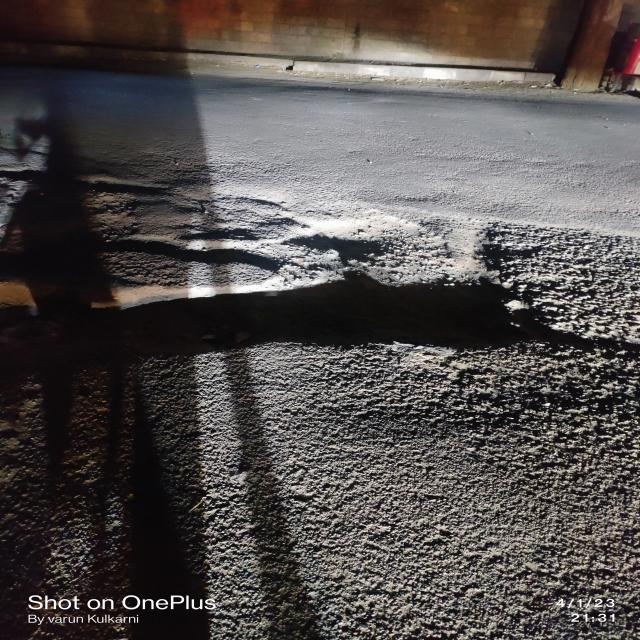potholes: (90, 276, 556, 366), (105, 226, 289, 276), (74, 163, 182, 199), (284, 231, 401, 261)
